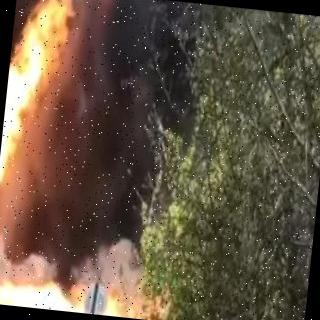smoke: (57, 37, 214, 240)
